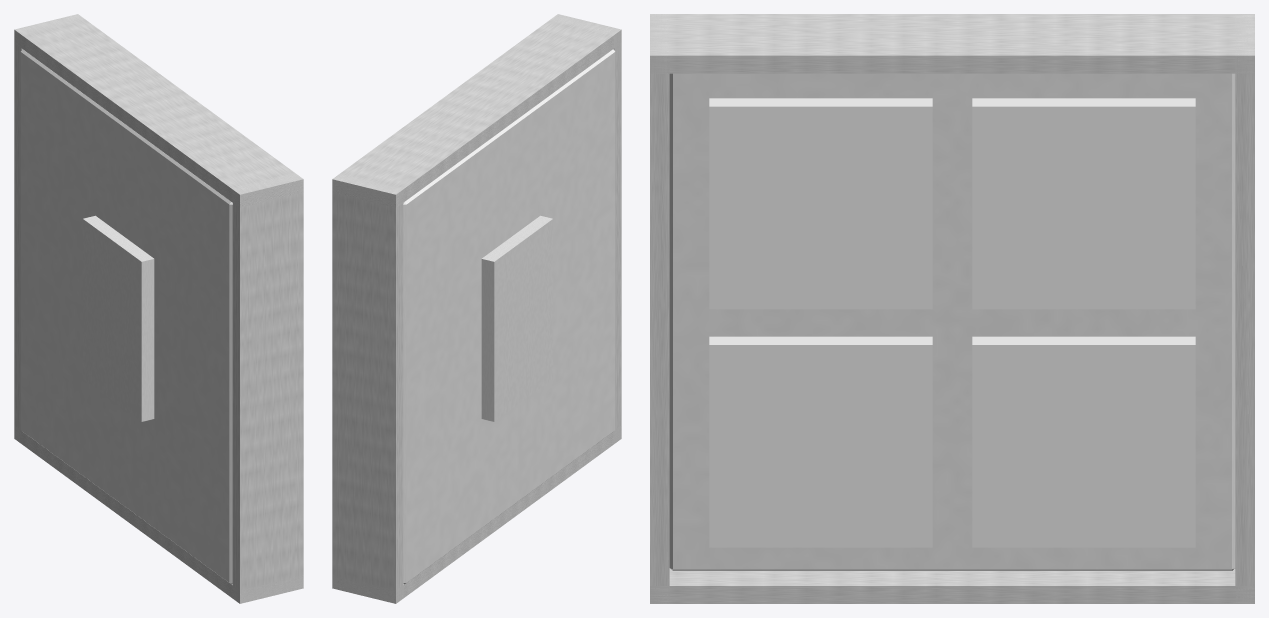
File: ruggedcanopylight.obj
The picture shows the model from 3 angles, left to right: view 1: azimuth 30°, elevation 25°; view 2: azimuth 150°, elevation 25°; view 3: azimuth 270°, elevation 25°; orthographic projection. The views are drawn at different scales.
Visible parts, largest first — view 1: Metal, Trim, Base; view 2: Metal, Trim, Base; view 3: Metal, Trim, Light0, Light1, Light2, Light3.
Part boxes in pixels (x1,y1,x2,y2): Metal: (20, 49, 232, 584); Trim: (14, 14, 303, 603); Base: (82, 215, 154, 421); Metal: (403, 49, 615, 584); Trim: (332, 14, 621, 603); Base: (481, 215, 553, 421); Metal: (669, 73, 1235, 570); Trim: (650, 14, 1254, 603); Light0: (972, 336, 1195, 547); Light1: (709, 336, 932, 547); Light2: (972, 98, 1195, 309); Light3: (709, 98, 932, 309).
Bounding box in the file's own units: 0.185 × 0.92 × 0.92.
